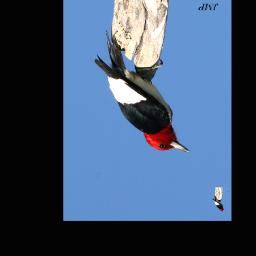Woodpecker: (91, 30, 193, 153)
